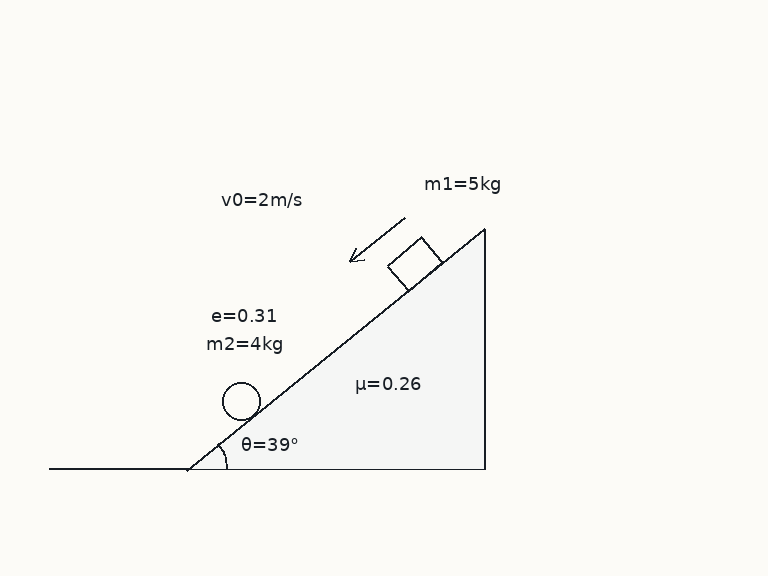ball: (220, 380, 262, 422)
block: (385, 236, 444, 292)
ramp: (185, 227, 486, 471)
